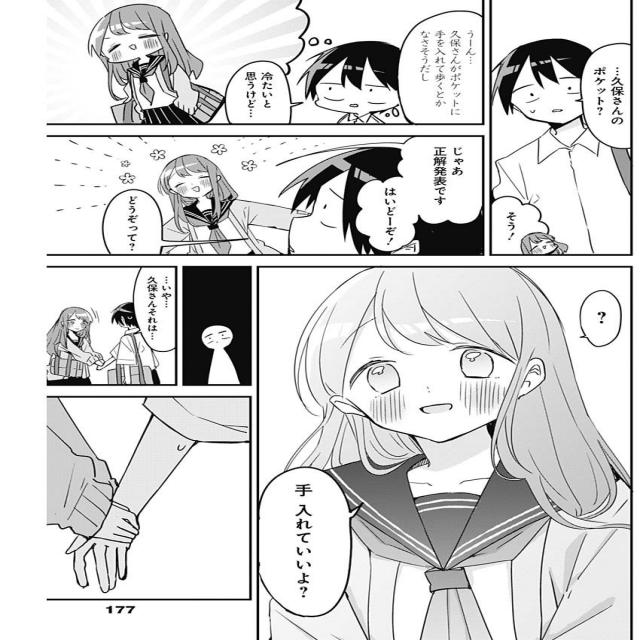Bubble: (254, 465, 355, 620), (397, 10, 488, 127), (396, 133, 484, 225), (578, 41, 636, 151), (355, 176, 420, 255), (221, 58, 293, 126), (100, 187, 164, 258), (486, 195, 554, 258), (132, 265, 177, 353), (578, 288, 624, 349)
